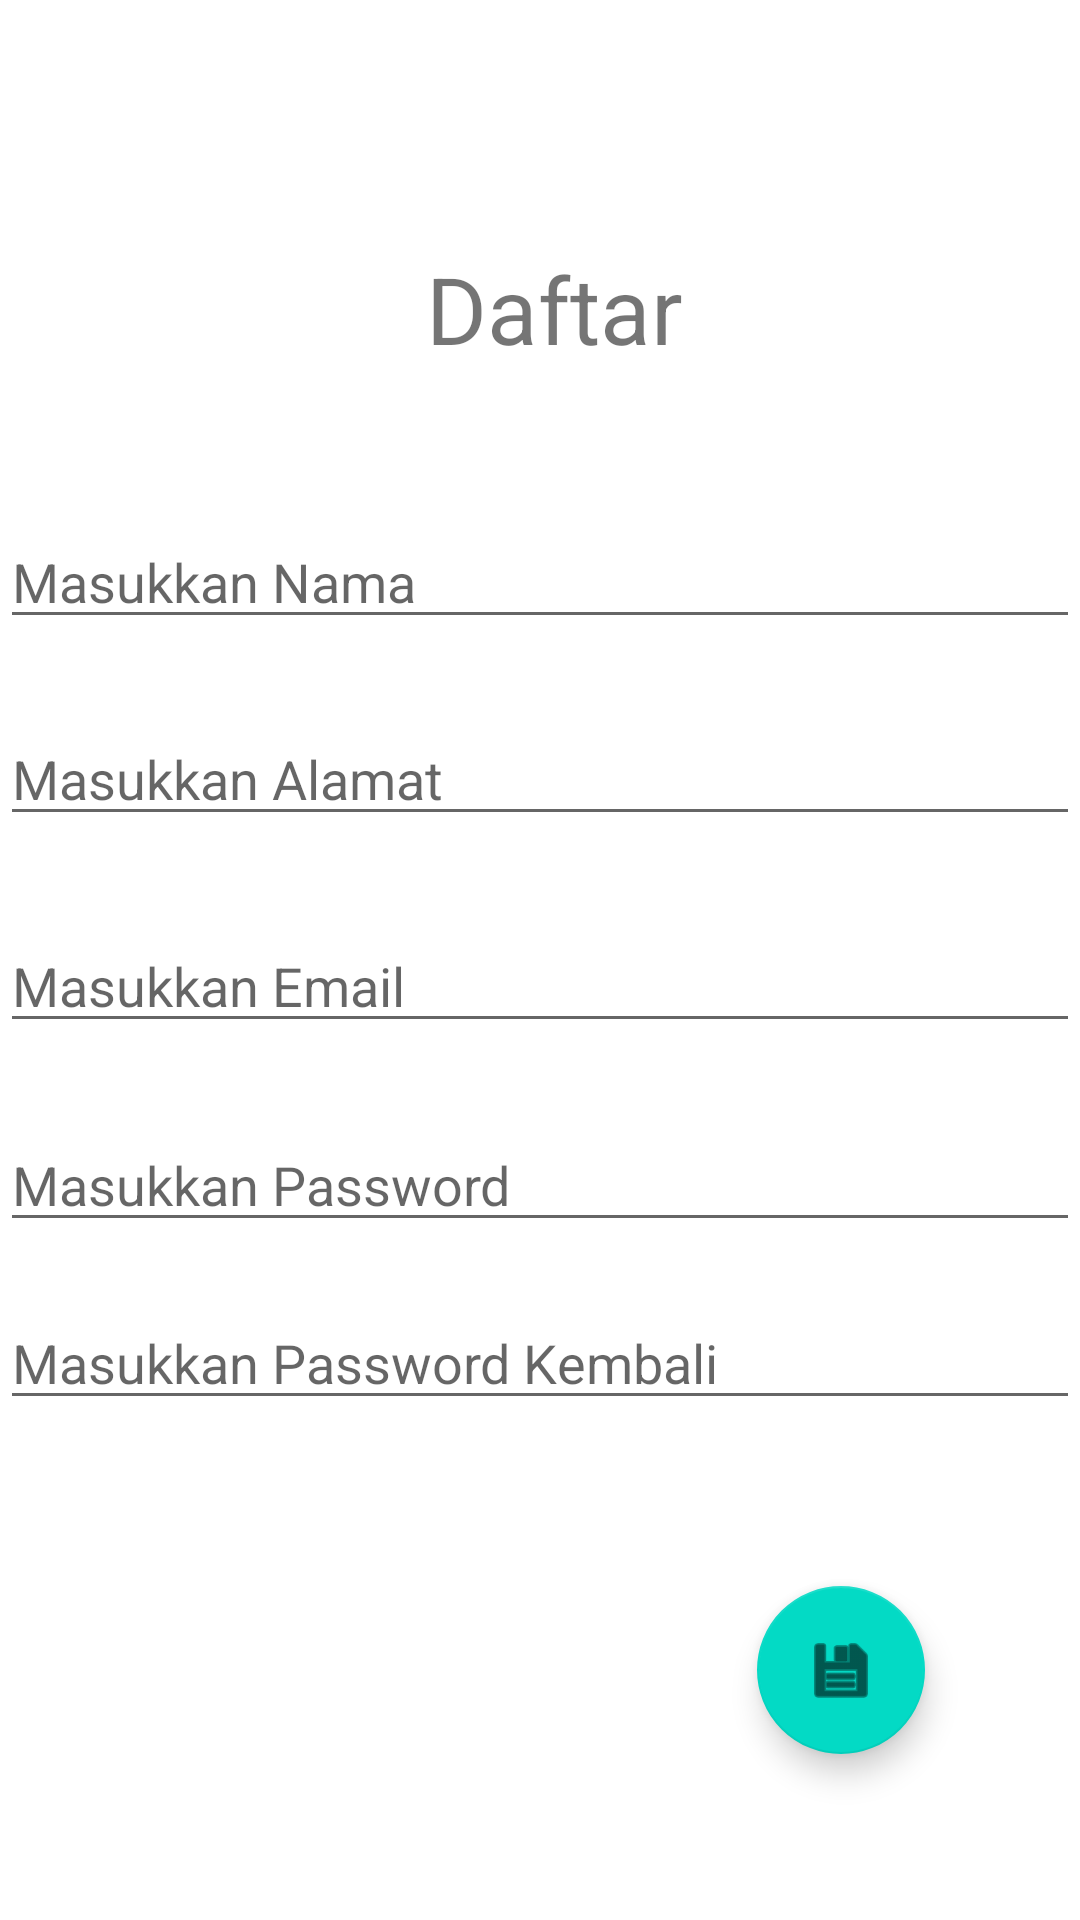

Where to tap for icons on this 1080x1920 app screen, as (x,y):
save: (841,1670)
